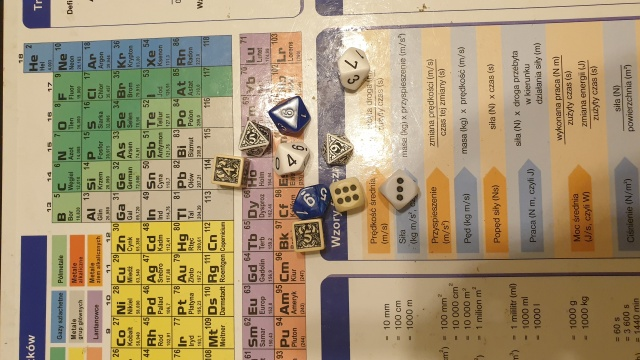d10-4: (270, 142, 309, 180)
d10-6: (273, 105, 297, 123)
d10-7: (335, 45, 373, 96)
d10-9: (293, 184, 328, 221)
d6-3: (377, 170, 421, 209)
d6-6: (329, 177, 364, 213)
d6p-4: (208, 154, 246, 191)
d6p-5: (292, 221, 326, 250)
d8p-5: (236, 118, 272, 158)
d8p-6: (314, 128, 354, 169)
